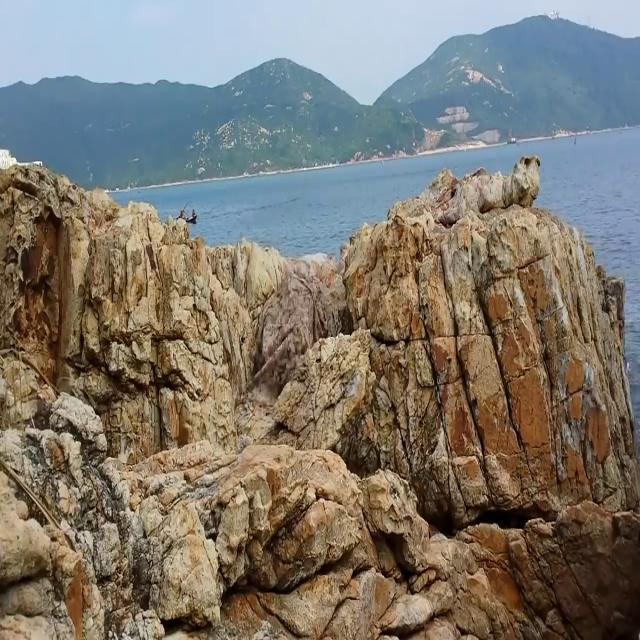Camouflage: (257, 269, 343, 384)
